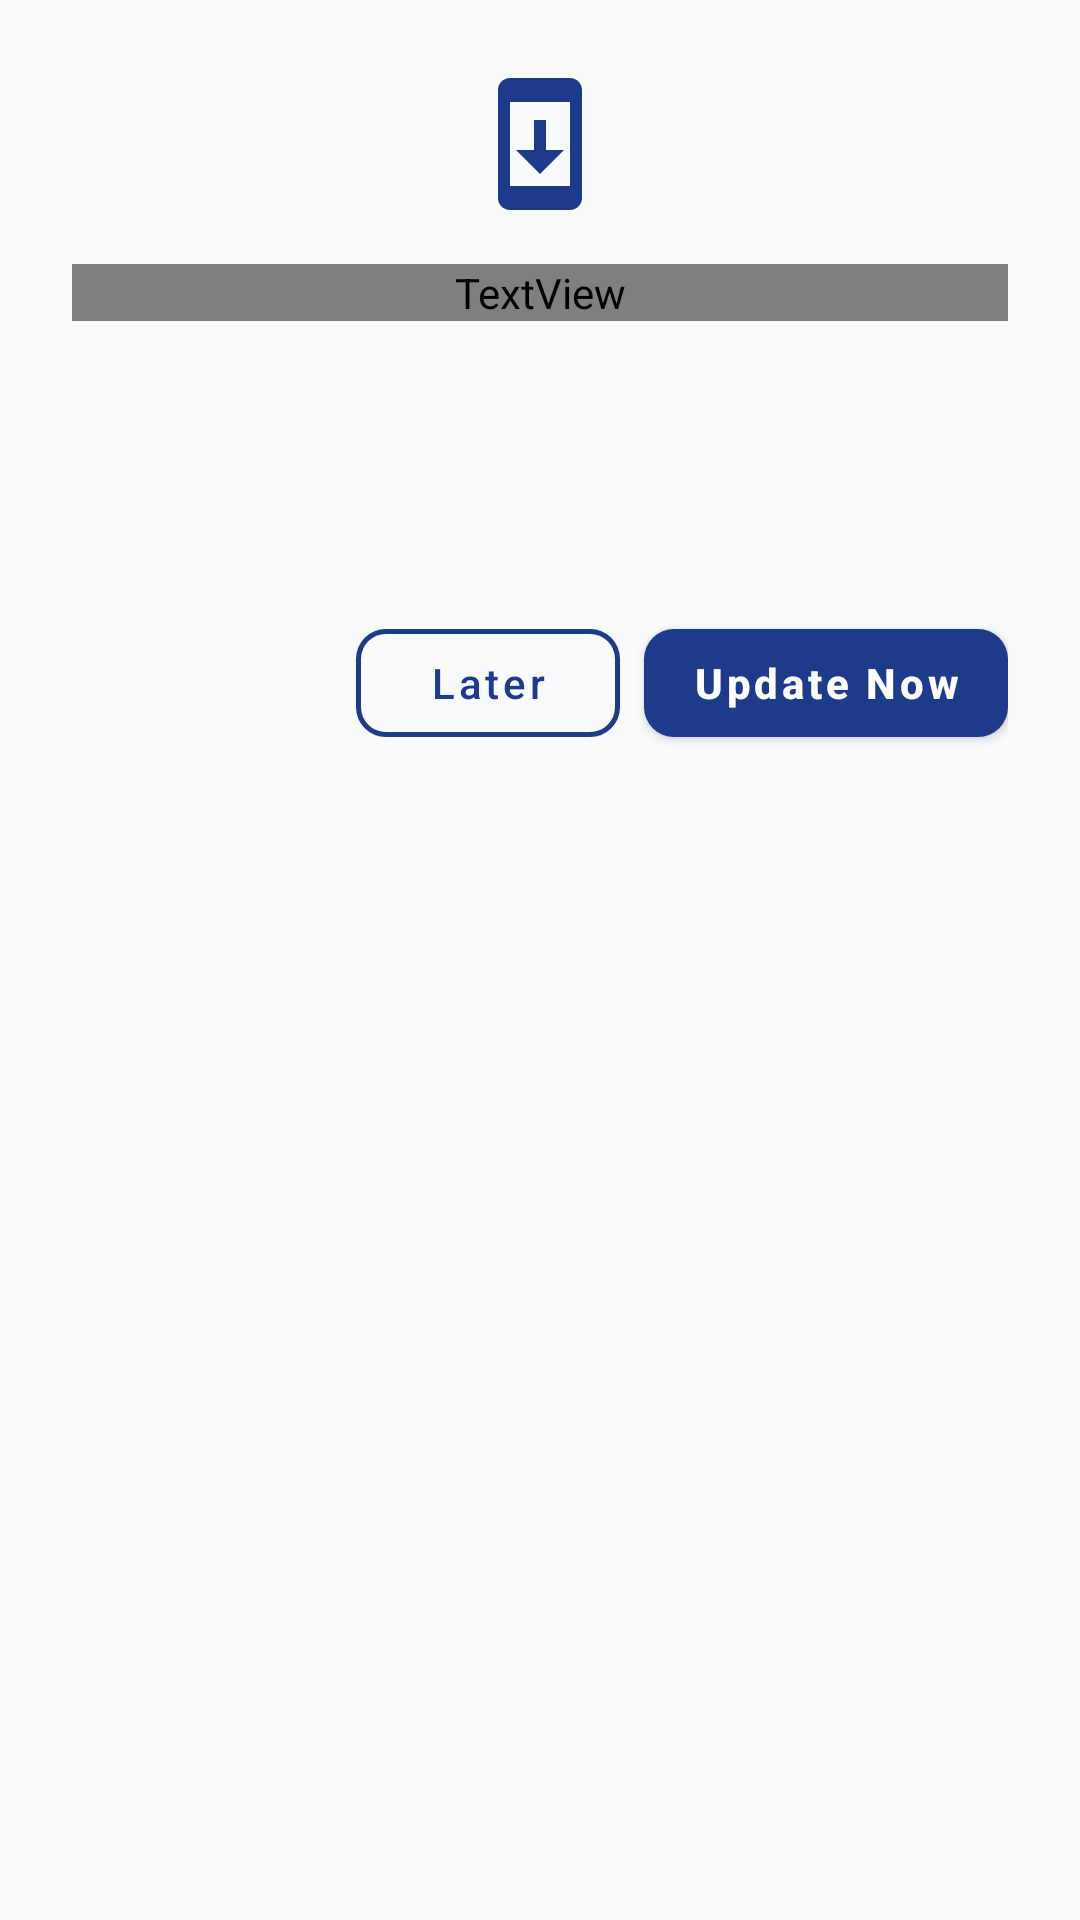

Icons on this 1080×1920 Android screen, each with its box as (x1=x1, y1=y1, x2=x2, y2=y2):
New Update Available: (x1=498, y1=78, x2=582, y2=210)
